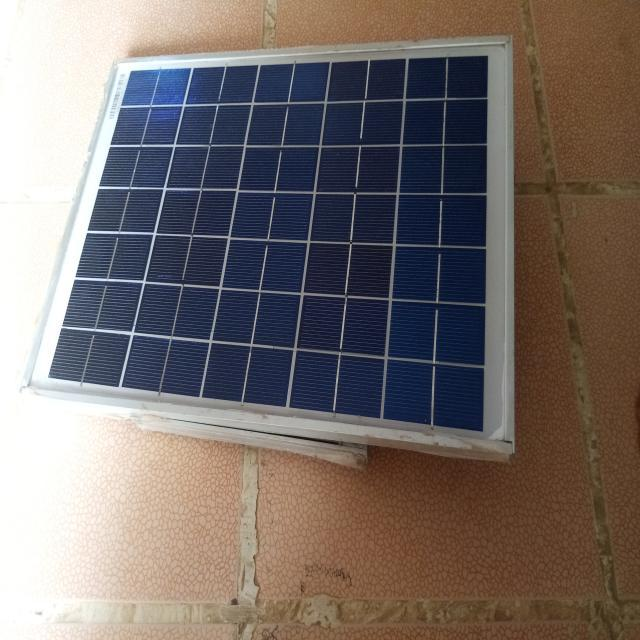no faulty: (28, 39, 514, 445)
